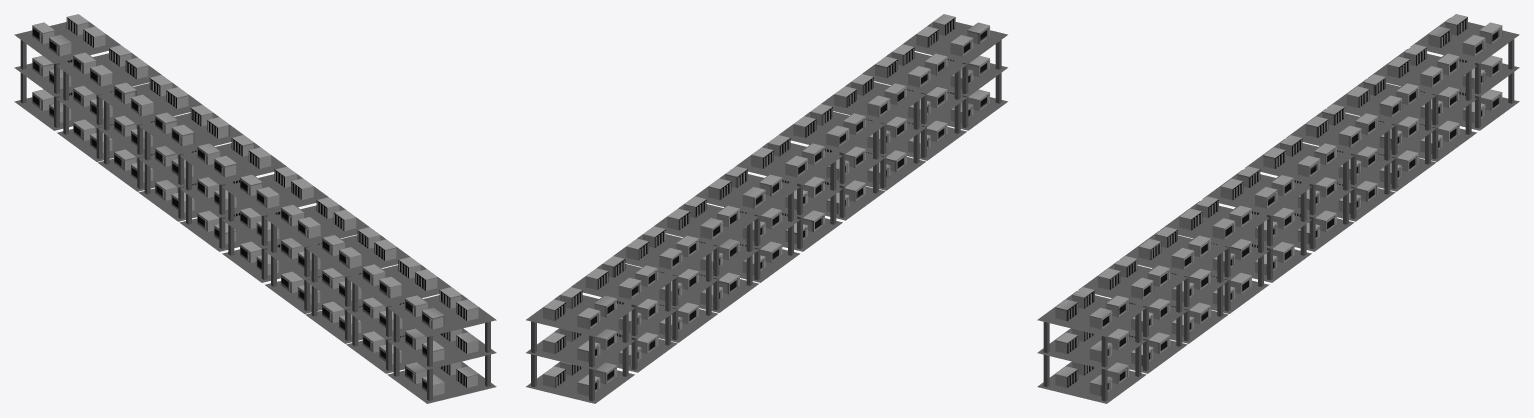
File: EstanteTecnologia.obj
3 views of the same model, side by side, from view 1: azimuth 30°, elevation 25°; view 2: azimuth 150°, elevation 25°; view 3: azimuth 330°, elevation 25° (orthographic).
Visible parts, largest first — view 1: EstanteTecnologia; view 2: EstanteTecnologia; view 3: EstanteTecnologia.
Part boxes in pixels (<box>): EstanteTecnologia: <box>14,14,496,403</box>; EstanteTecnologia: <box>526,14,1007,403</box>; EstanteTecnologia: <box>1037,14,1519,403</box>.
Bounding box in the file's own units: 2 × 2.14 × 20.52.
Materials: 1 (1 with a texture image).
